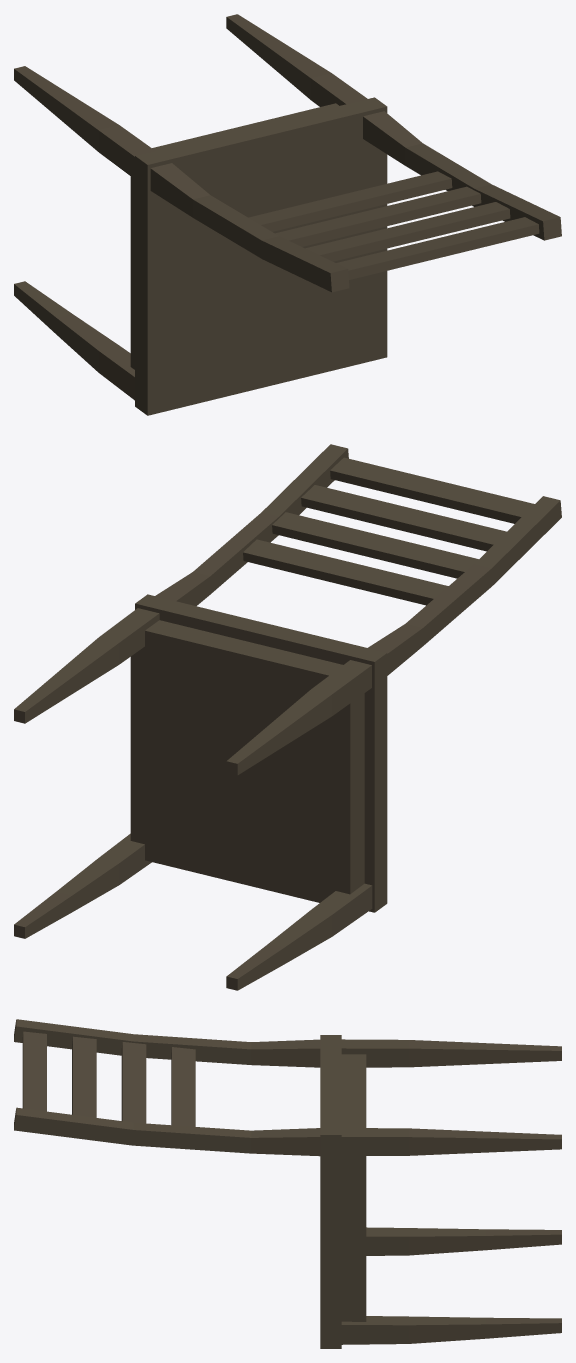
File: chair-wood-1.obj
3 views of the same model, one above another, from view 1: azimuth 30°, elevation 25°; view 2: azimuth 150°, elevation 25°; view 3: azimuth 270°, elevation 25° (orthographic). The views are drawn at different scales.
Parts seen in each view (by area): view 1: chair-wood-1; view 2: chair-wood-1; view 3: chair-wood-1.
Boxes of the visible parts, bbox=[...] form: chair-wood-1: bbox=[14, 14, 561, 415]; chair-wood-1: bbox=[14, 444, 561, 990]; chair-wood-1: bbox=[14, 1019, 561, 1348].
Size of the model in its own units: 15.51 by 16.81 by 36.
